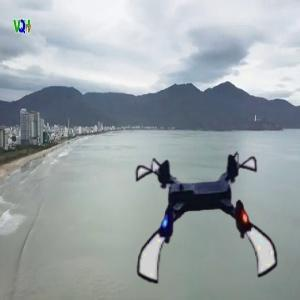drone: (135, 149, 280, 294)
